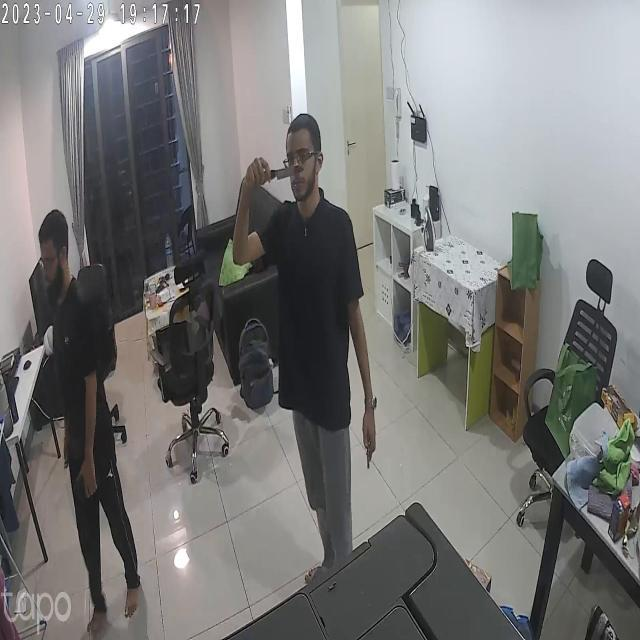Knife: (264, 162, 308, 186)
